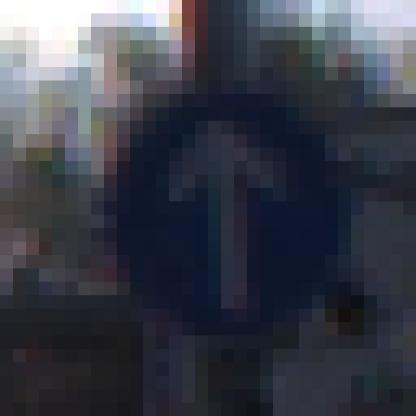straight: (91, 81, 364, 362)
